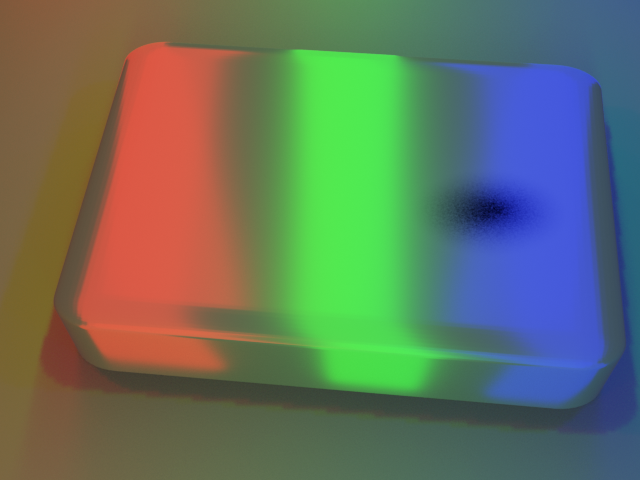stain: (405, 147, 619, 268)
